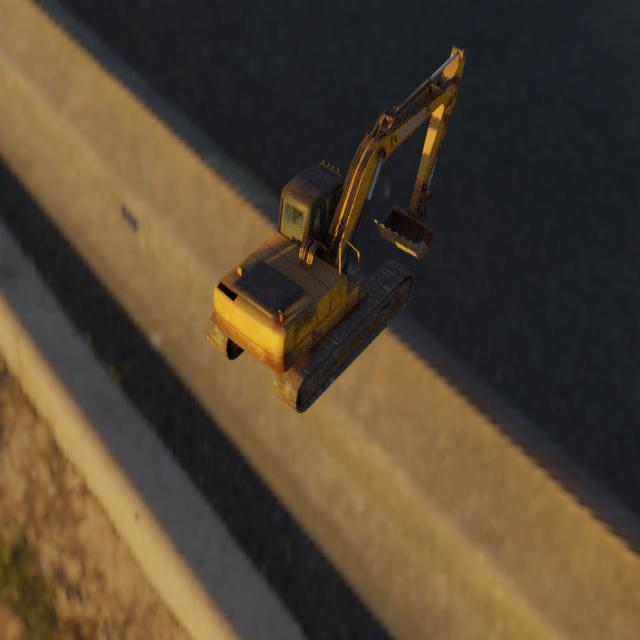excavator: (205, 44, 466, 413)
